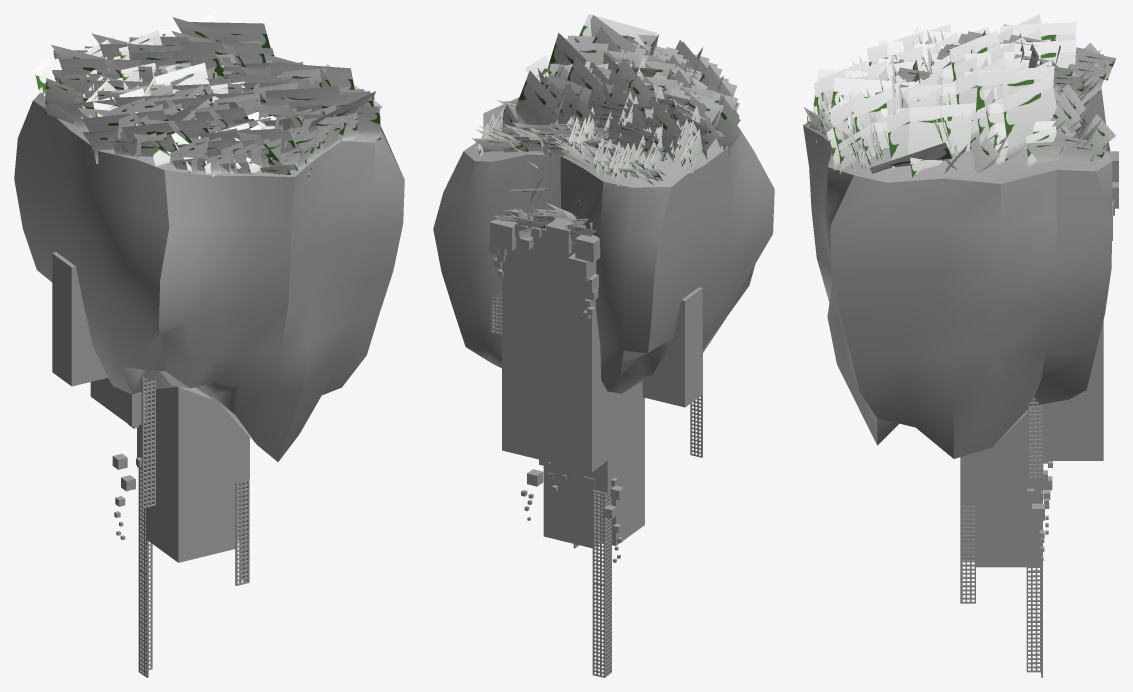
Rendered from island_test_uvandgrass.fbx.
3 views of the same model, side by side, from view 1: azimuth 30°, elevation 25°; view 2: azimuth 150°, elevation 25°; view 3: azimuth 270°, elevation 25° (orthographic). The views are drawn at different scales.
Visible parts, largest first — view 1: island, grass, cubes_big, gitter, cubes_small; view 2: island, cubes_big, grass, cubes_small, gitter; view 3: island, grass, cubes_big, gitter, cubes_small.
Part boxes in pixels (x1,y1,x2,y2): island: (14, 92, 404, 461); grass: (33, 14, 382, 176); cubes_big: (52, 252, 249, 562); gitter: (138, 376, 249, 677); cubes_small: (112, 424, 141, 539); island: (433, 97, 774, 393); cubes_big: (502, 235, 702, 548); grass: (472, 14, 741, 243); cubes_small: (489, 209, 624, 562); gitter: (490, 284, 702, 677); island: (803, 88, 1112, 458); grass: (804, 14, 1116, 205); cubes_big: (960, 320, 1103, 567); gitter: (960, 337, 1099, 677); cubes_small: (1027, 151, 1118, 560).
Bounding box in the file's own units: 528 × 1257 × 567.
